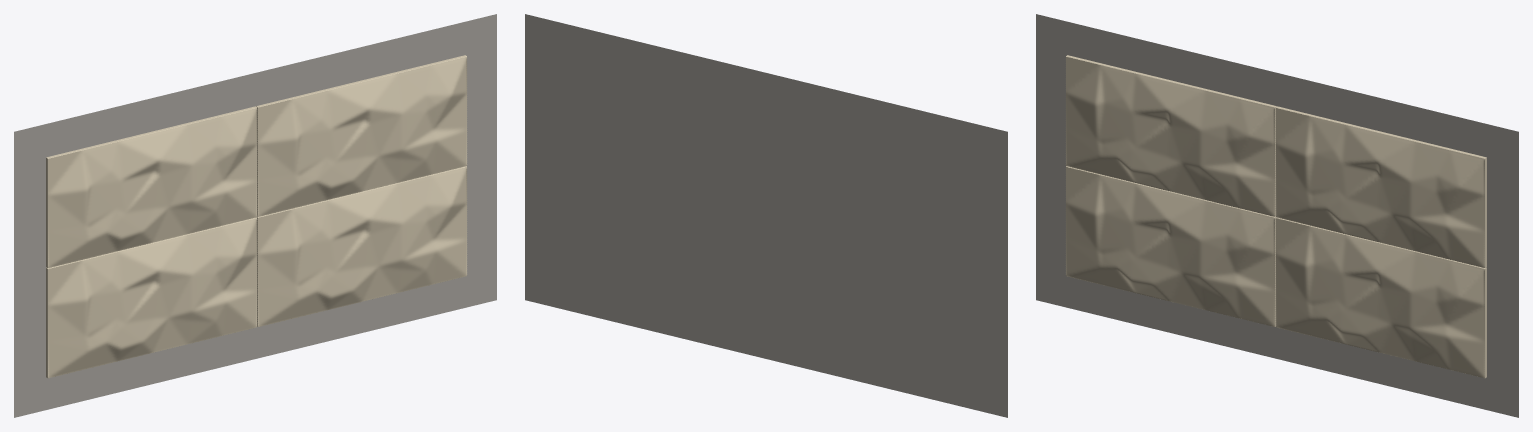
The model's file is terilgan.glb.
The picture shows the model from 3 angles, left to right: view 1: azimuth 30°, elevation 25°; view 2: azimuth 150°, elevation 25°; view 3: azimuth 330°, elevation 25°; orthographic projection.
Parts seen in each view (by area): view 1: Plane, t1_0, t1_1, t0_0, t0_1; view 2: Plane; view 3: Plane, t1_1, t1_0, t0_1, t0_0.
Boxes of the visible parts, x1,y1,x2,y2 form: Plane: (14, 14, 496, 417); t1_0: (46, 106, 257, 267); t1_1: (256, 55, 467, 216); t0_0: (46, 217, 257, 378); t0_1: (257, 166, 467, 326); Plane: (525, 14, 1007, 417); Plane: (1036, 14, 1518, 417); t1_1: (1275, 106, 1486, 267); t1_0: (1065, 55, 1276, 216); t0_1: (1275, 217, 1486, 378); t0_0: (1065, 166, 1275, 326).
Size of the model in its own units: 2.31 by 1.31 by 0.0572.
